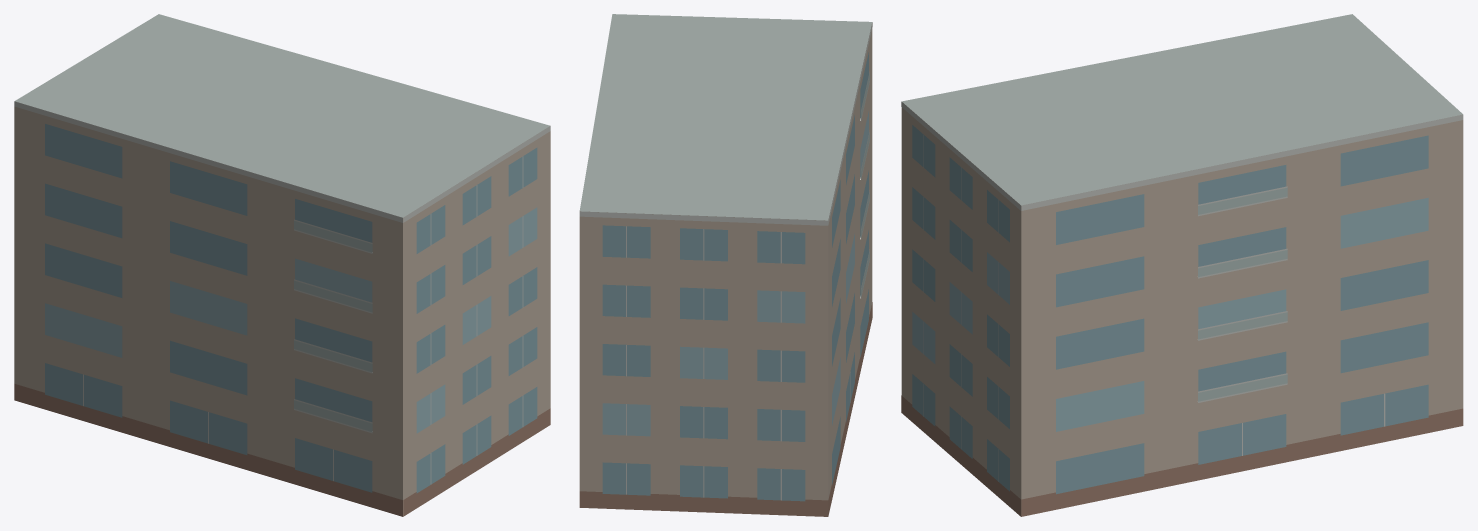
The model's file is survey-upis-32788737.glb.
The picture shows the model from 3 angles, left to right: view 1: azimuth 30°, elevation 25°; view 2: azimuth 150°, elevation 25°; view 3: azimuth 270°, elevation 25°; orthographic projection. The views are drawn at different scales.
Parts seen in each view (by area): view 1: survey-upis-32788737.tmp; view 2: survey-upis-32788737.tmp; view 3: survey-upis-32788737.tmp.
Boxes of the visible parts, x1,y1,x2,y2 form: survey-upis-32788737.tmp: (14, 14, 550, 516); survey-upis-32788737.tmp: (579, 14, 872, 516); survey-upis-32788737.tmp: (901, 14, 1463, 516).
Size of the model in its own units: 18.21 by 13.8 by 22.58.
